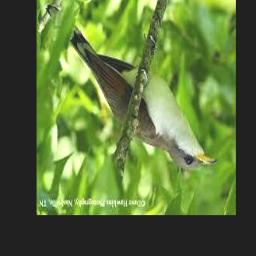Cuckoo: (46, 5, 217, 170)
